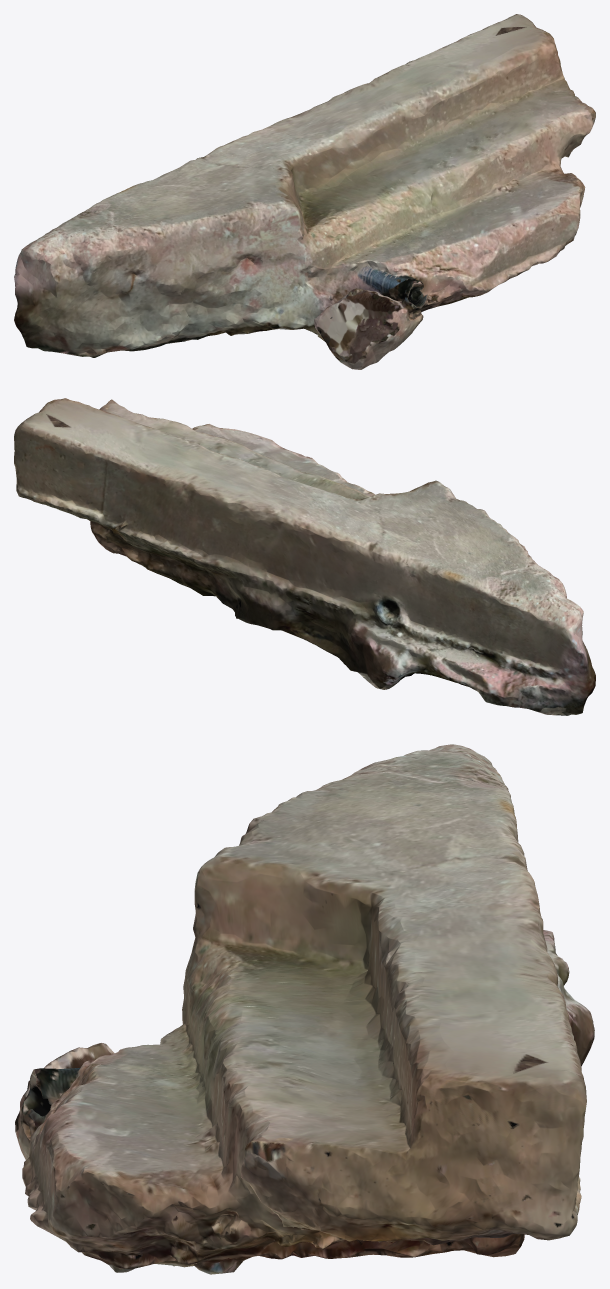
File: FRAG-S1-FS-001.glb
3 views of the same model, one above another, from view 1: azimuth 30°, elevation 25°; view 2: azimuth 150°, elevation 25°; view 3: azimuth 270°, elevation 25° (orthographic). The views are drawn at different scales.
Parts seen in each view (by area): view 1: FRAG-S1-FS-001; view 2: FRAG-S1-FS-001; view 3: FRAG-S1-FS-001.
Part boxes in pixels (bbox=[...]): FRAG-S1-FS-001: bbox=[14, 14, 595, 369]; FRAG-S1-FS-001: bbox=[14, 398, 595, 715]; FRAG-S1-FS-001: bbox=[15, 744, 594, 1274].
Size of the model in its own units: 2.84 by 0.9817 by 1.31.
1 material, 1 textured.
